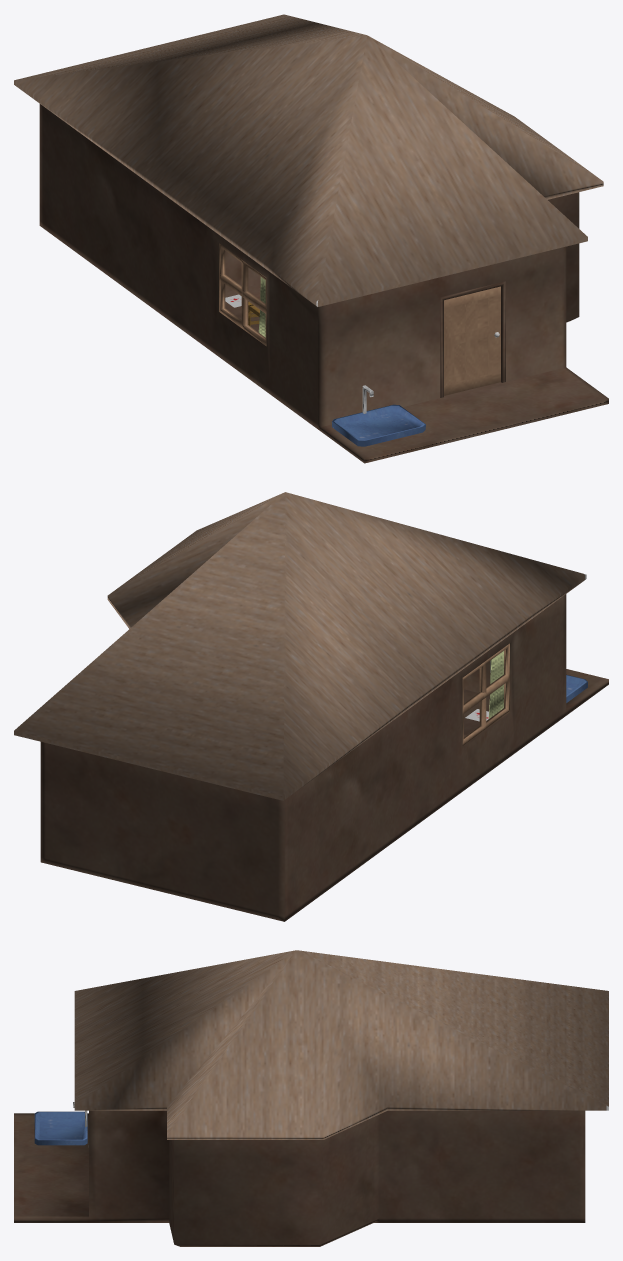
File: MAP 1.fbx
3 views of the same model, one above another, from view 1: azimuth 30°, elevation 25°; view 2: azimuth 150°, elevation 25°; view 3: azimuth 270°, elevation 25° (orthographic). The views are drawn at different scales.
Parts seen in each view (by area): view 1: UP, House, Door, Bathr; view 2: UP, House; view 3: UP, House, Bathr.
Boxes of the visible parts, left/top/right/bottom form: UP: left=14, top=14, right=603, bottom=306; House: left=39, top=104, right=608, bottom=463; Door: left=444, top=286, right=500, bottom=395; Bathr: left=332, top=385, right=425, bottom=446; UP: left=14, top=492, right=586, bottom=800; House: left=40, top=594, right=608, bottom=921; UP: left=74, top=950, right=608, bottom=1139; House: left=14, top=1110, right=585, bottom=1246; Bathr: left=34, top=1102, right=87, bottom=1145.
Bounding box in the file's own units: 800 × 612 × 1386.
6 materials, 6 textured.
